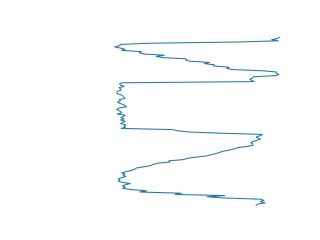distributaryChannelFill: (113, 76, 267, 143)
mouthBar: (110, 34, 283, 75)
underwaterDistributaryChannel: (115, 139, 269, 209)
